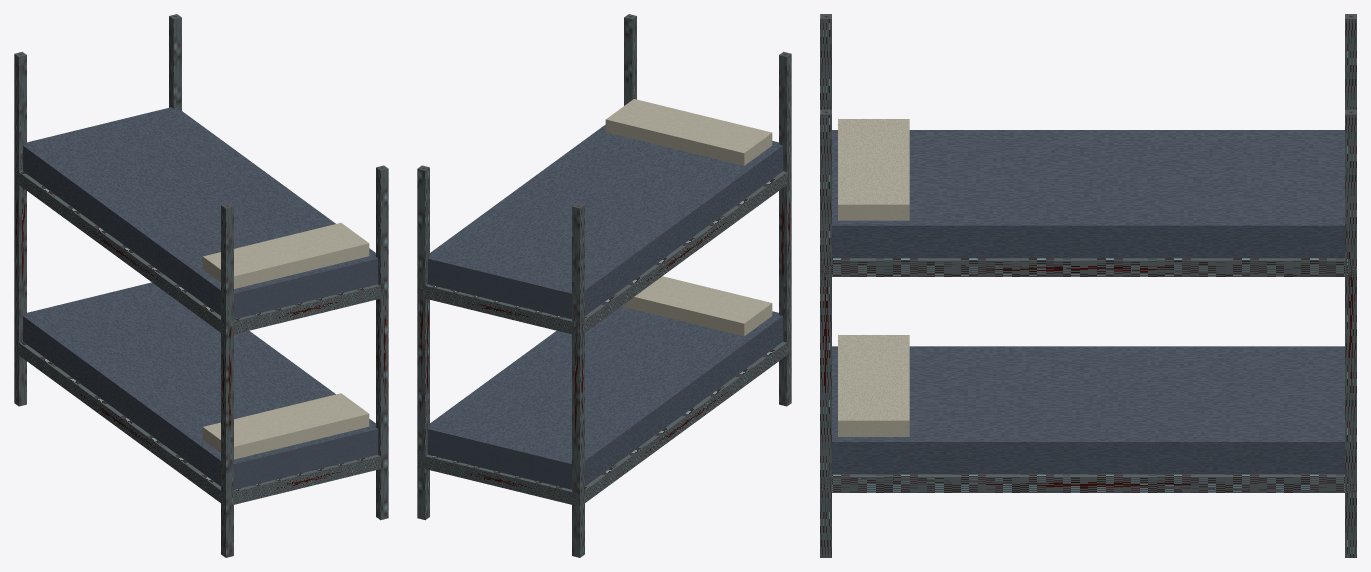
3 views of the same model, side by side, from view 1: azimuth 30°, elevation 25°; view 2: azimuth 150°, elevation 25°; view 3: azimuth 270°, elevation 25° (orthographic). The views are drawn at different scales.
Parts seen in each view (by area): view 1: ark/bunk; view 2: ark/bunk; view 3: ark/bunk.
Boxes of the visible parts, x1,y1,x2,y2 form: ark/bunk: (14, 14, 388, 557); ark/bunk: (417, 14, 791, 557); ark/bunk: (820, 14, 1356, 557).
Size of the model in its own units: 0.4 by 0.82 by 0.9.
1 material, 1 textured.
